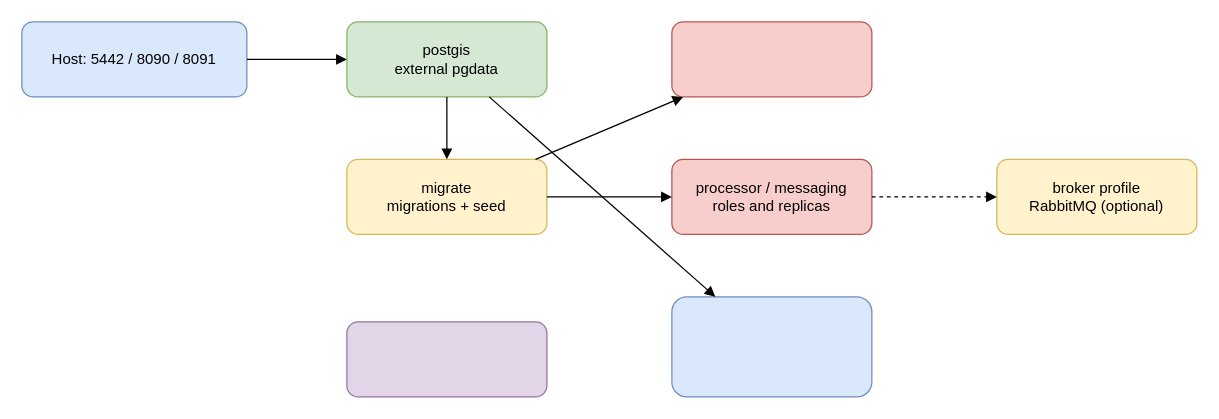
Image size: 1219x419. Some labels were removed from this diagram. Here are the shapes that lost their labels. From the top down, the centre of each, then its label:
At [771,59]: "collectors telegram / alerts".
At [446,359]: "logs volume tgsession: Telegram only".
At [771,346]: "api (8090, reader) admin (8091, admin) analytics (internal)".
